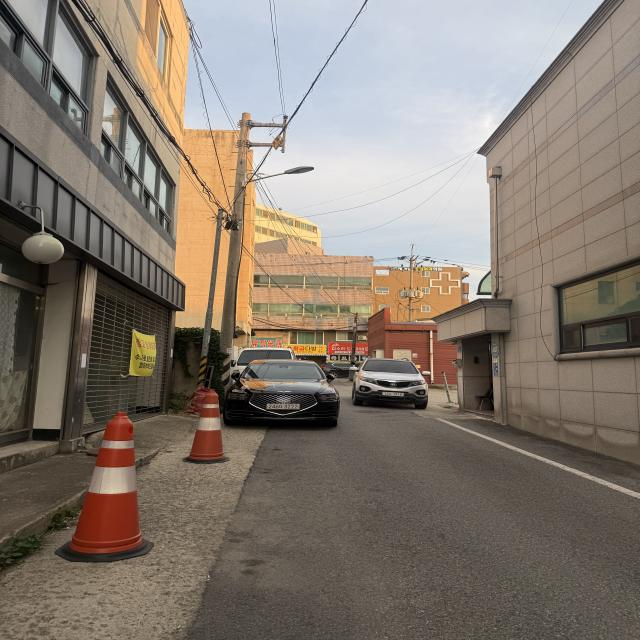car: (222, 358, 341, 427), (351, 356, 430, 409)
